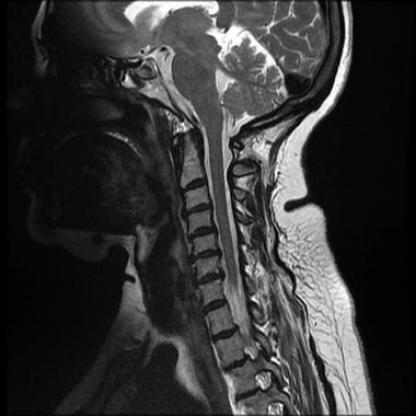Disc Protrusionrotation: (195, 271, 226, 287), (189, 250, 223, 263), (187, 226, 217, 240), (183, 202, 212, 214)
Osteophytesrotation: (195, 271, 226, 287), (187, 225, 217, 240), (189, 250, 223, 263), (183, 202, 213, 214)
